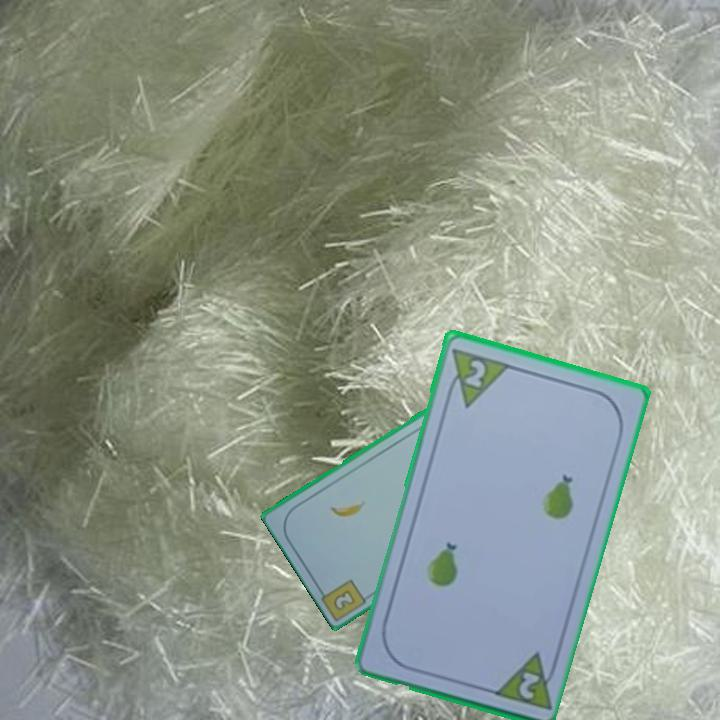2b: (330, 586, 358, 613)
2p: (460, 355, 489, 391), (515, 667, 542, 702)
